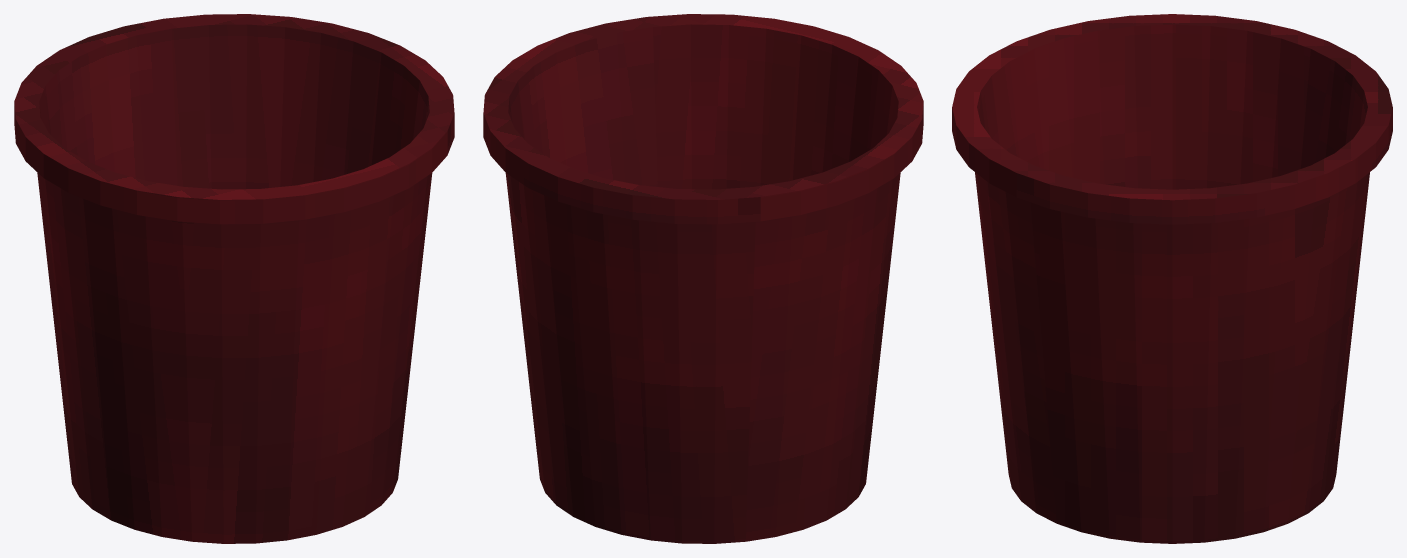
The model's file is Pail.obj.
The picture shows the model from 3 angles, left to right: view 1: azimuth 30°, elevation 25°; view 2: azimuth 150°, elevation 25°; view 3: azimuth 270°, elevation 25°; orthographic projection.
Parts seen in each view (by area): view 1: Pail; view 2: Pail; view 3: Pail.
Boxes of the visible parts, x1=… form: Pail: x1=14, y1=14, x2=454, y2=543; Pail: x1=483, y1=14, x2=923, y2=543; Pail: x1=952, y1=14, x2=1392, y2=543.
Bounding box in the file's own units: 4.33 × 3.99 × 4.33.
